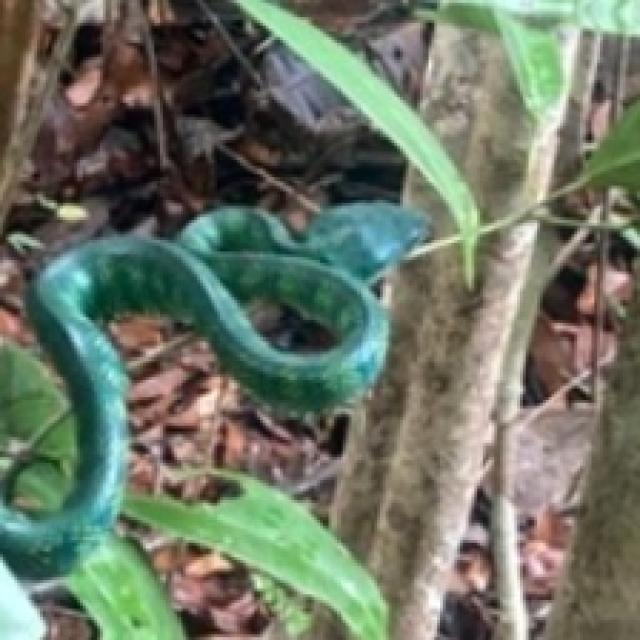north ph temple pitviper: (0, 203, 423, 637)
